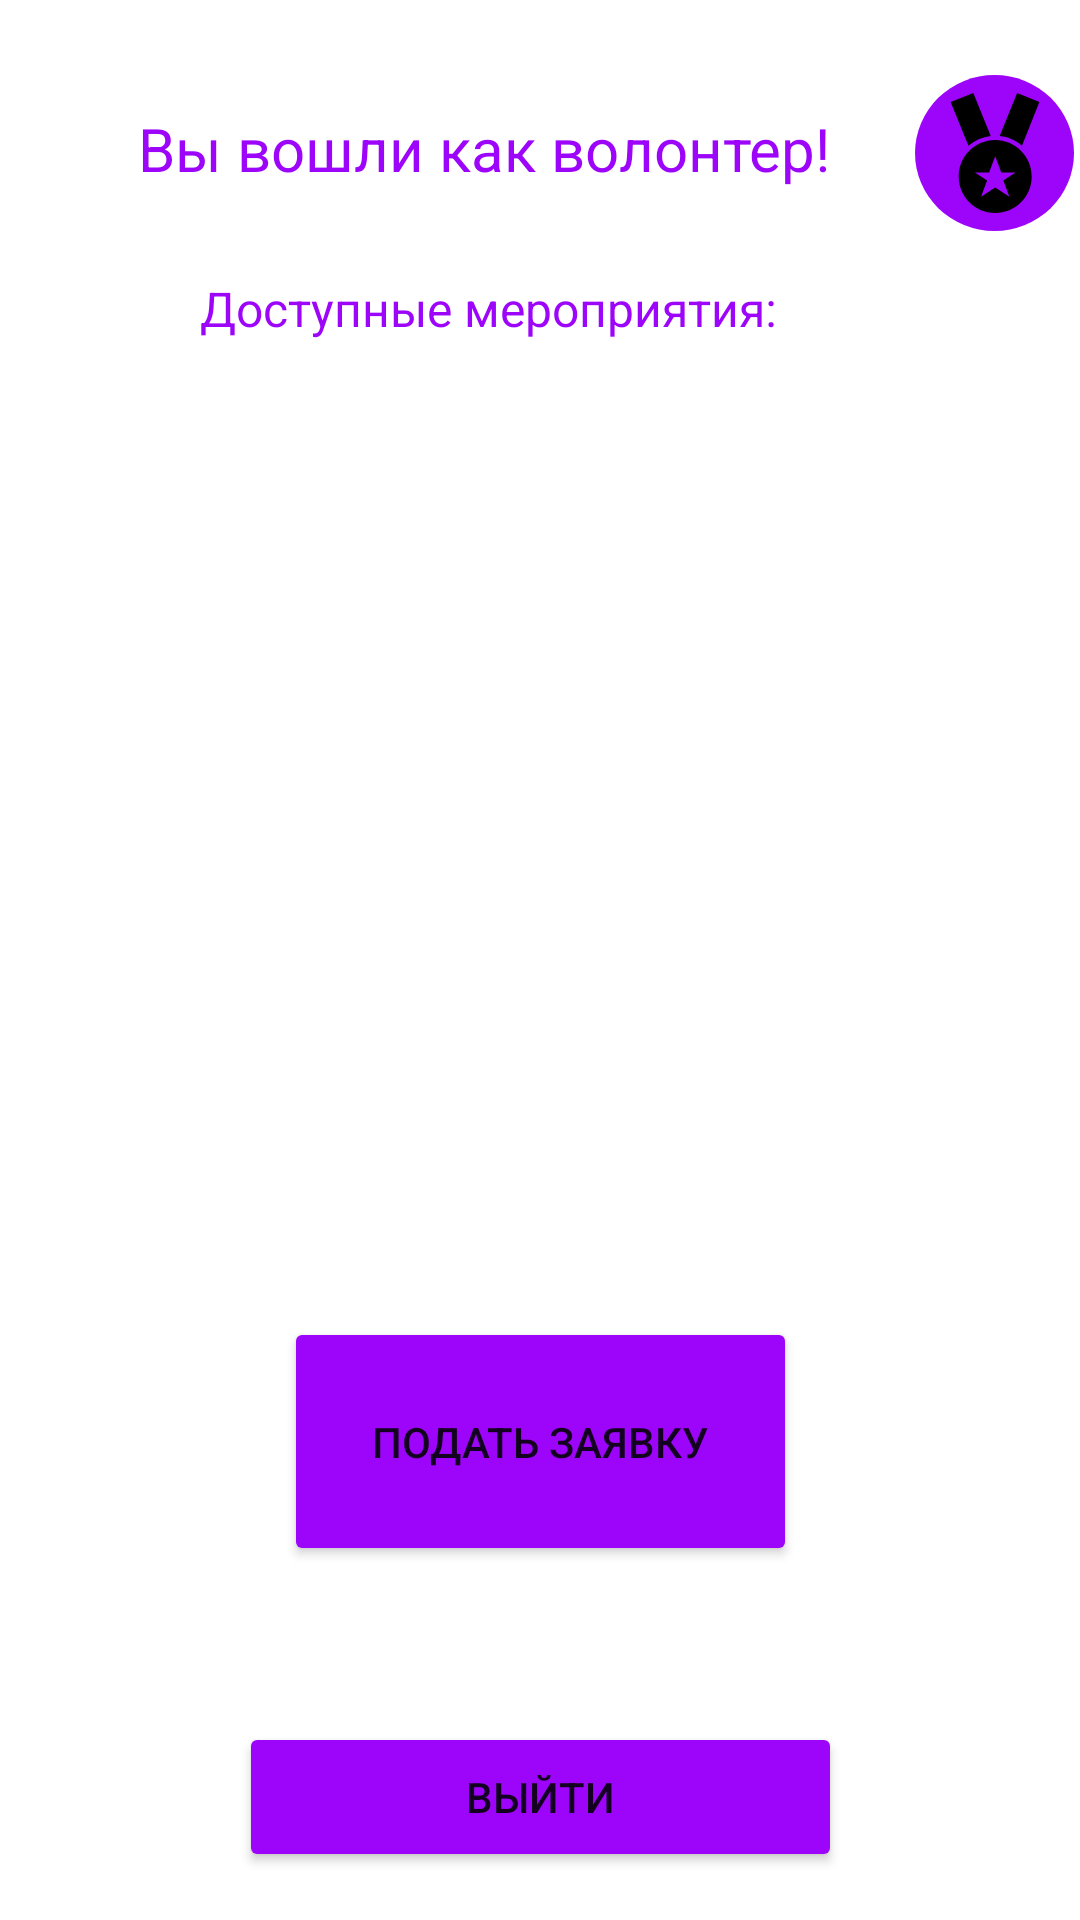

Point at icon controls on the screen. Image size 1080px×1920px, points as point (x, y).
star medal: point (994, 153)
